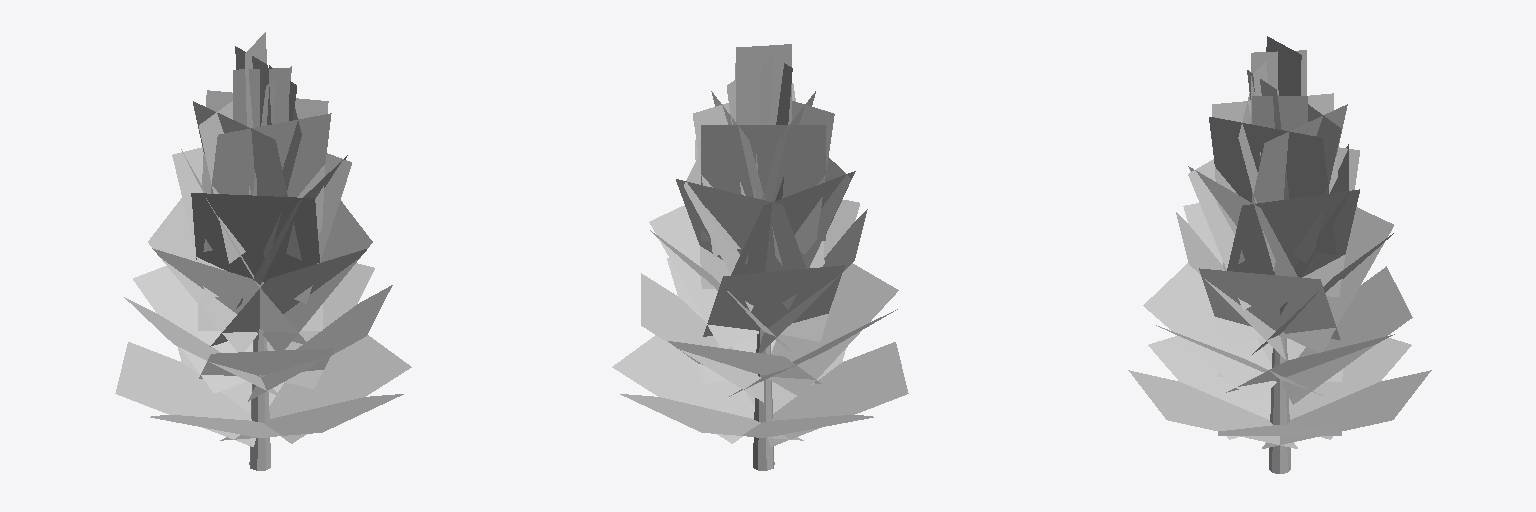
Rendered from newTree.obj.
3 views of the same model, side by side, from view 1: azimuth 30°, elevation 25°; view 2: azimuth 150°, elevation 25°; view 3: azimuth 270°, elevation 25° (orthographic).
Parts seen in each view (by area): view 1: plant_sep61; view 2: plant_sep61; view 3: plant_sep61.
Part boxes in pixels (left/top/right/bottom): plant_sep61: left=115, top=32, right=411, bottom=470; plant_sep61: left=612, top=44, right=908, bottom=470; plant_sep61: left=1128, top=36, right=1431, bottom=473.
Size of the model in its own units: 255 by 412 by 268.